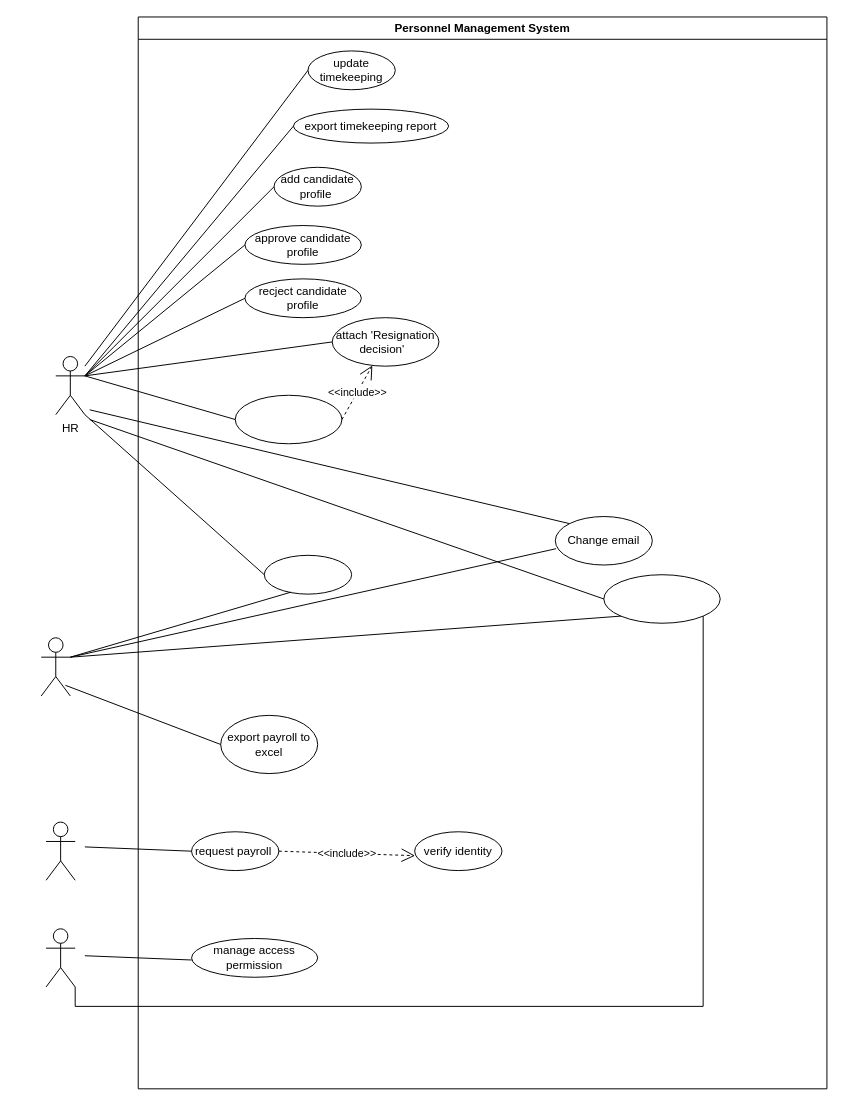
Some shapes in this 844 by 1106 pixel diagram are drawn without their labels. The shapes that lost their labels are listed below. From the top down, each one's centre as x and y in pixels, then its label:
At (288,419): "delete employee record".
At (307,574): "Login".
At (661,598): "Change password".
At (55,666): "Accounting".
At (60,850): "Board of Director".
At (60,957): "Admin".
